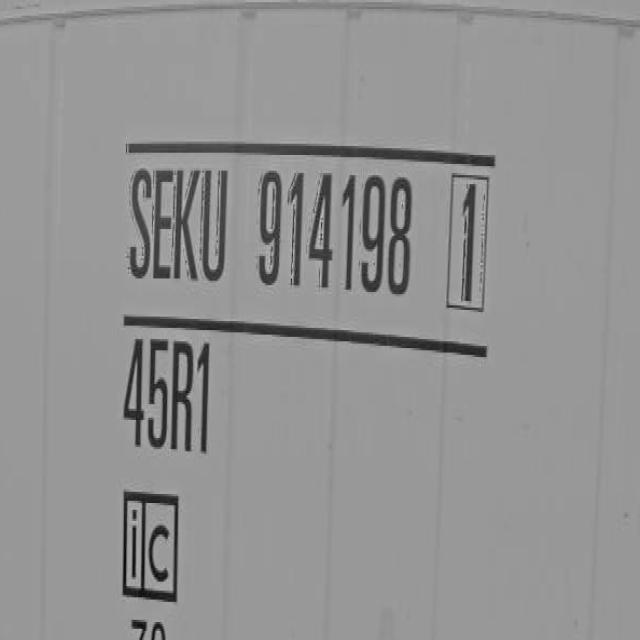dv: (444, 167, 494, 322)
owner: (125, 156, 229, 293)
serial: (255, 161, 420, 310)
size: (115, 333, 218, 468)
